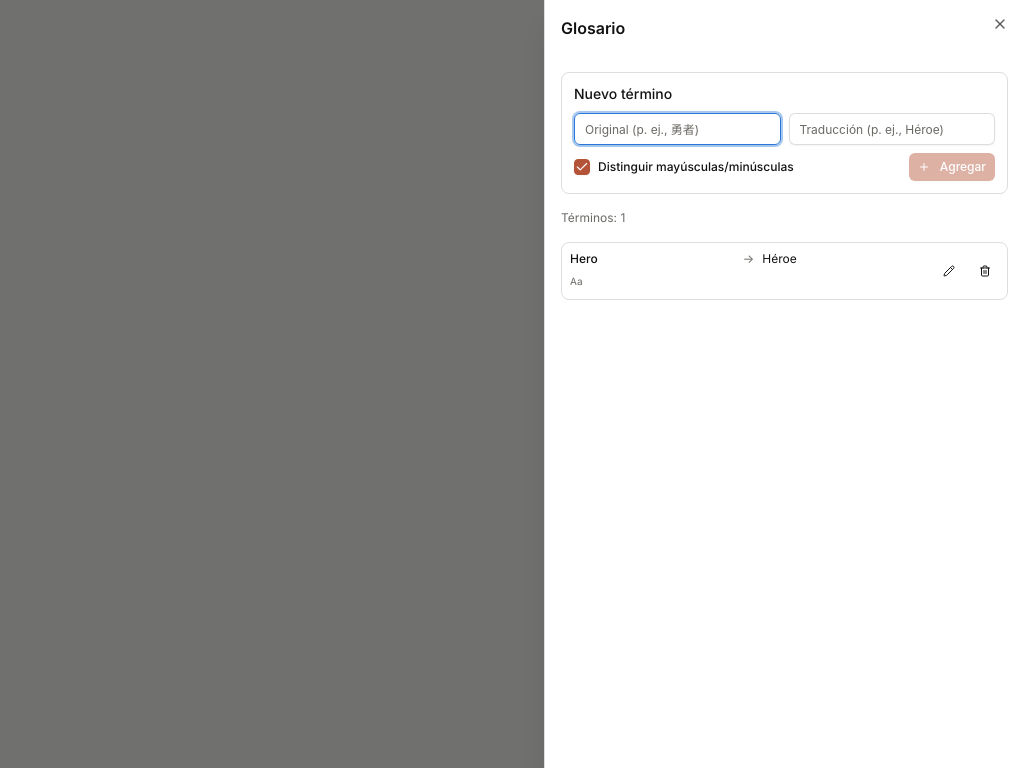
GlossaryPanel deletion › elimina el término una sola vez cuando se confirma
Click the button named "Eliminar término: Hero".
click(985, 271)  # box [971,257,999,285]
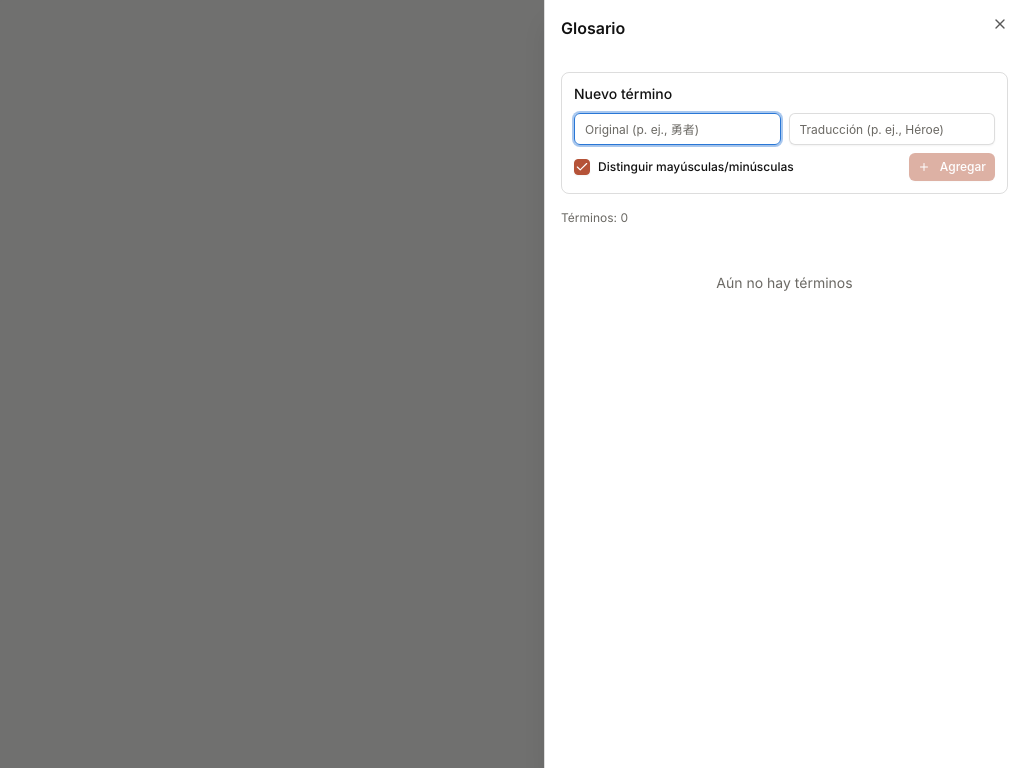
Check: the text "Hero" is gone
